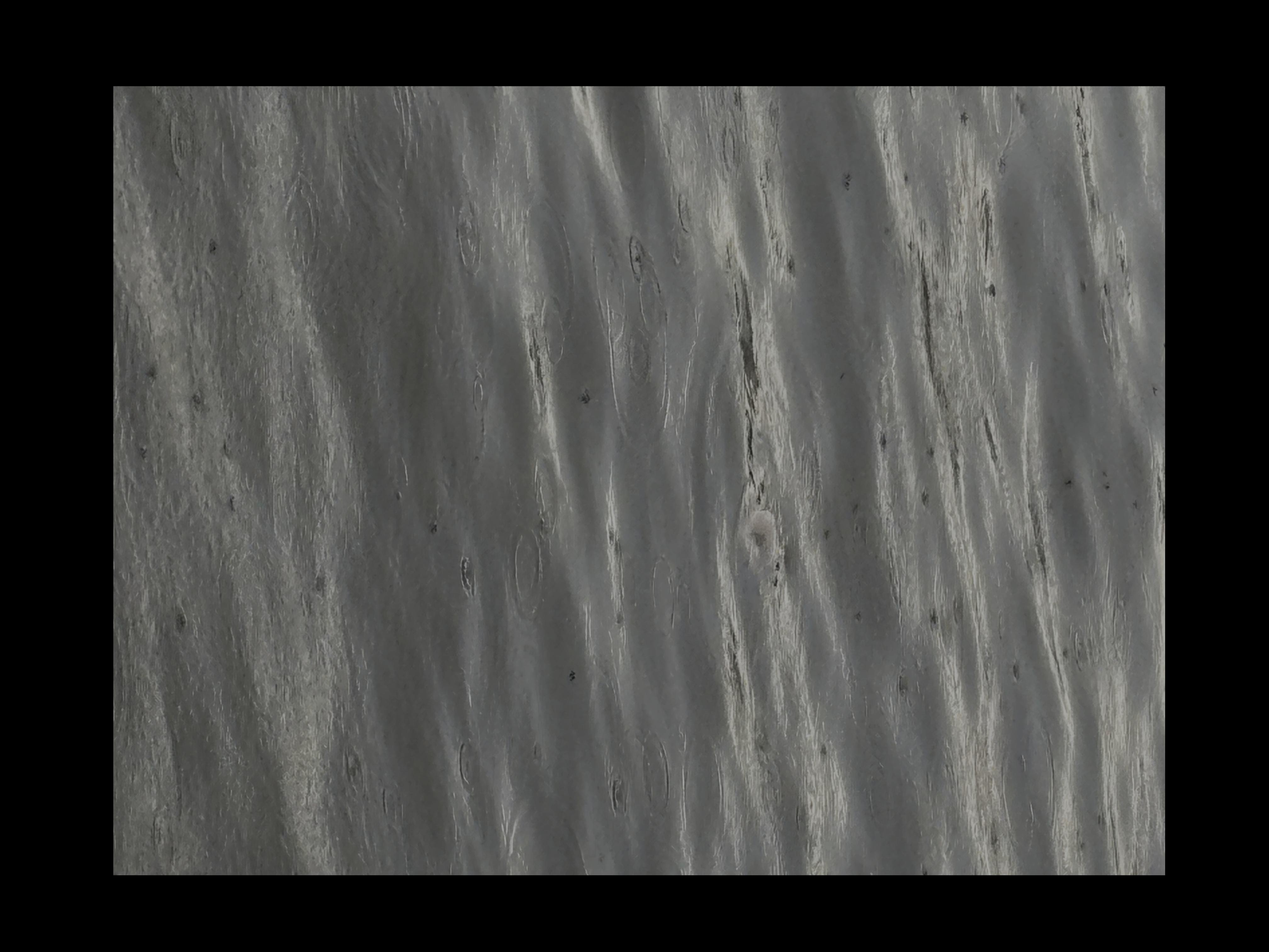Plastic wastes: (1123, 483, 1173, 556)
